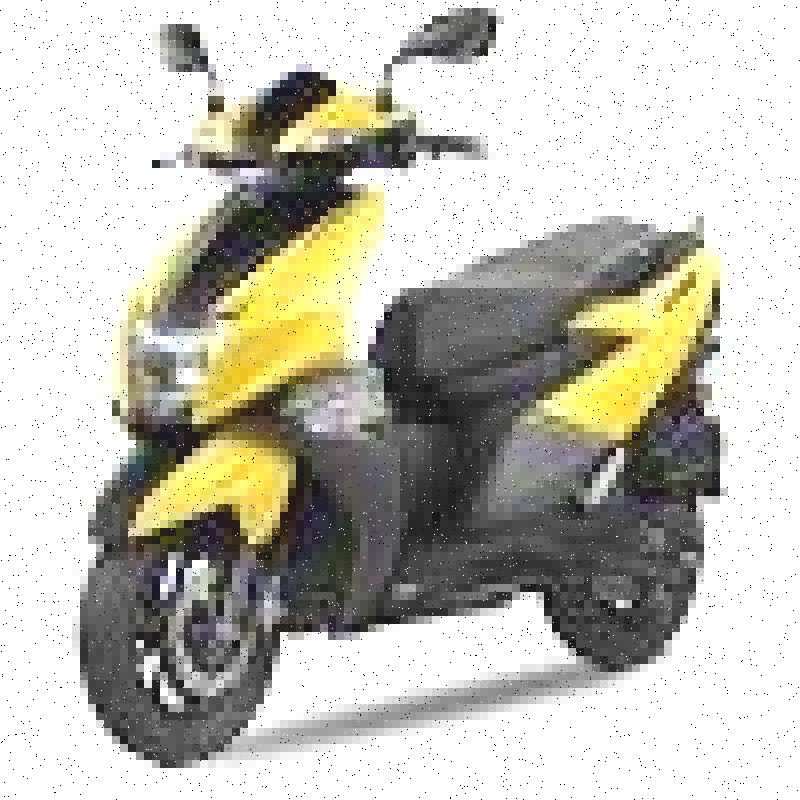bike: (74, 5, 742, 766)
